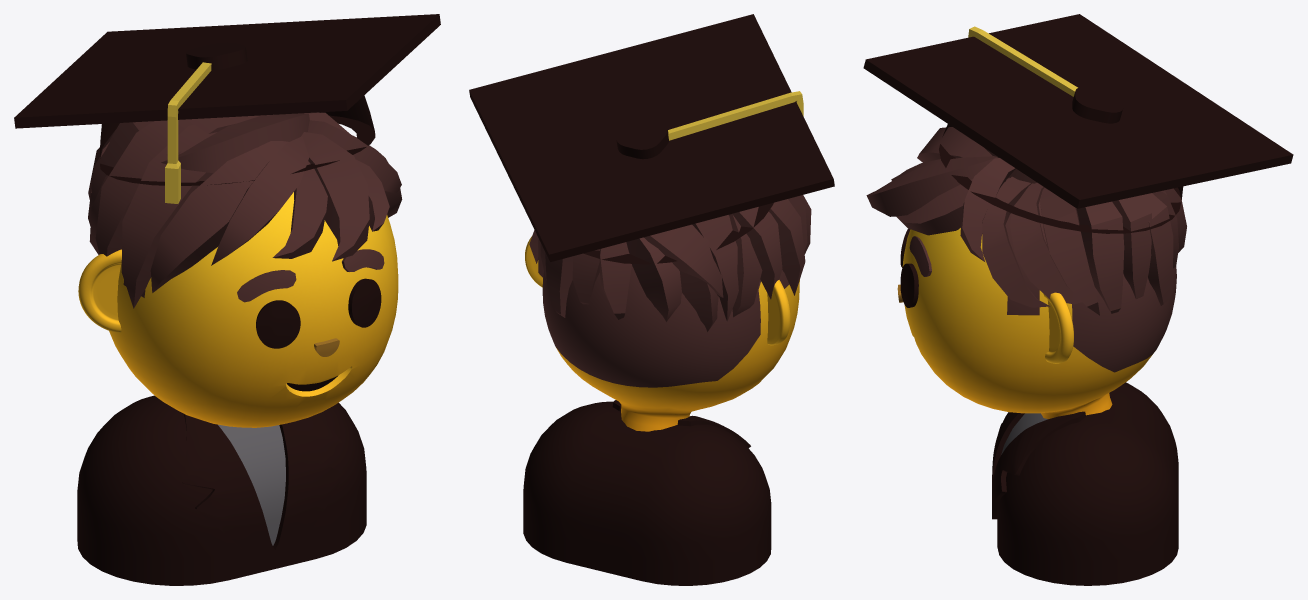
The model's file is Student.gltf.
The picture shows the model from 3 angles, left to right: view 1: azimuth 30°, elevation 25°; view 2: azimuth 150°, elevation 25°; view 3: azimuth 270°, elevation 25°; orthographic projection. The views are drawn at different scales.
Parts seen in each view (by area): view 1: Cube.912, Roundcube.077, Circle.553, Sphere.037, Circle.552, Circle.549, Cylinder.070, Plane.030, Circle.551; view 2: Circle.553, Sphere.037, Roundcube.077, Cube.912, Cylinder.070, Plane.030, Circle.552; view 3: Circle.553, Cube.912, Sphere.037, Roundcube.077, Circle.552, Cylinder.070, Plane.030, Circle.549.
Part boxes in pixels (<box>): Cube.912: <box>88,112,402,308</box>; Roundcube.077: <box>109,192,398,427</box>; Circle.553: <box>14,14,440,185</box>; Sphere.037: <box>77,395,366,585</box>; Circle.552: <box>182,414,343,557</box>; Circle.549: <box>256,278,381,348</box>; Cylinder.070: <box>78,249,121,332</box>; Plane.030: <box>165,62,211,203</box>; Circle.551: <box>237,249,384,302</box>; Circle.553: <box>469,14,834,264</box>; Sphere.037: <box>523,401,771,585</box>; Roundcube.077: <box>542,265,799,431</box>; Cube.912: <box>529,195,811,331</box>; Cylinder.070: <box>525,236,790,345</box>; Plane.030: <box>668,91,803,140</box>; Circle.552: <box>612,400,750,448</box>; Circle.553: <box>863,14,1293,233</box>; Cube.912: <box>866,127,1186,315</box>; Sphere.037: <box>997,382,1178,585</box>; Roundcube.077: <box>902,177,1176,419</box>; Circle.552: <box>992,411,1085,519</box>; Cylinder.070: <box>1043,292,1073,363</box>; Plane.030: <box>968,26,1077,96</box>; Circle.549: <box>900,228,918,307</box>.
Size of the model in its own units: 2.07 by 2.43 by 2.02.
7 materials, 2 textured.
